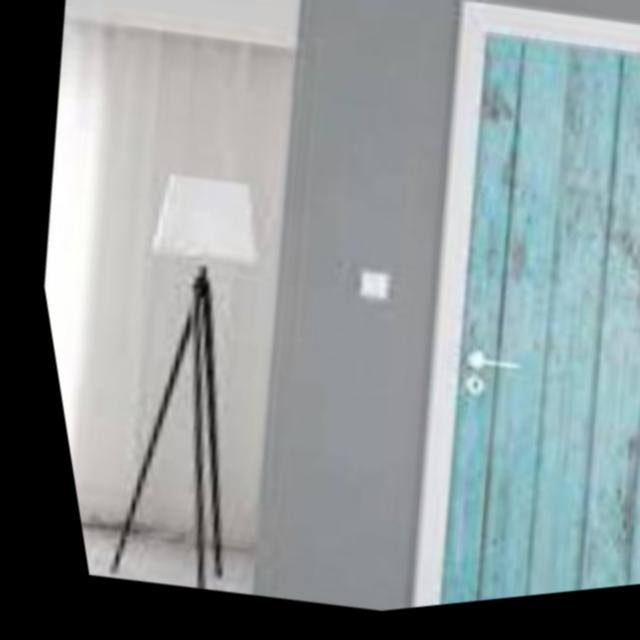door_handle: (451, 348, 521, 394)
